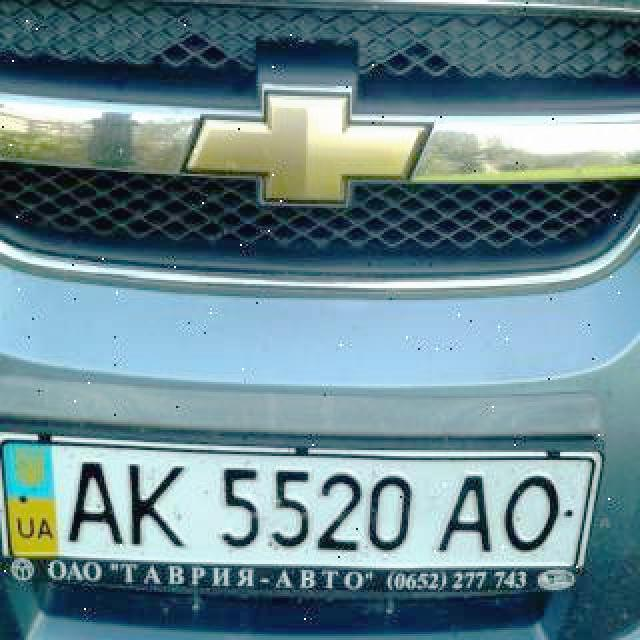license_plate: (10, 440, 593, 571)
